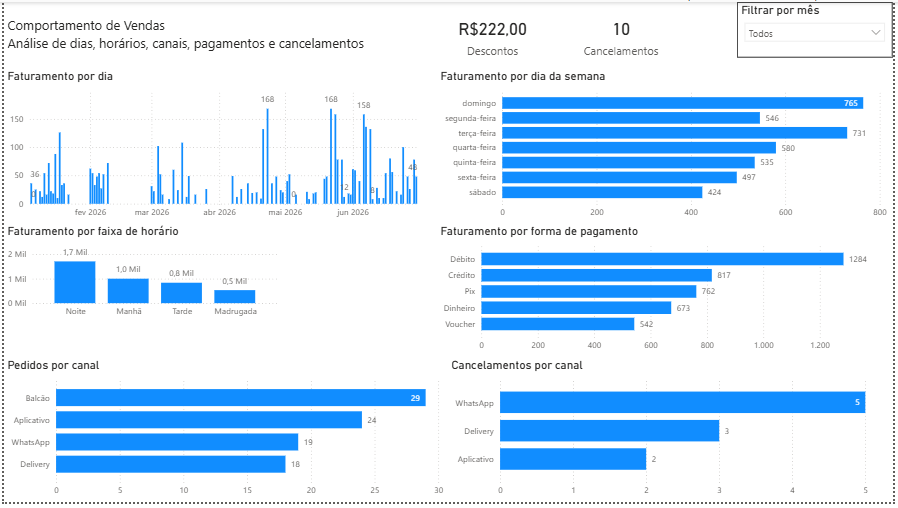

Layout of this report page (visuals, bound fields, positions):
{"tool":"powerbi","page":{"name":"Comportamento de Vendas","canvas":[1280,720],"ordinal":3},"visuals":[{"type":"card","fields":{"Values":["Vendas.Descontos"]},"box":[608,0,192,96],"z":0},{"type":"card","fields":{"Values":["Vendas.Pedidos Cancelados"]},"box":[800,0,176,96],"z":1000},{"type":"clusteredBarChart","title":"Faturamento por dia da semana","fields":{"Y":["Vendas.Faturamento"],"Category":["Vendas.Dia_Semana"]},"box":[624,96,656,224],"z":2000},{"type":"clusteredColumnChart","title":"Faturamento por dia","fields":{"Y":["Vendas.Faturamento"],"Category":["Vendas.Data_Venda"]},"box":[0,96,624,224],"z":3000},{"type":"clusteredColumnChart","title":"Faturamento por faixa de horário","fields":{"Y":["Vendas.Faturamento"],"Category":["Vendas.Faixa_Horario"]},"box":[0,320,400,144],"z":4000},{"type":"clusteredBarChart","title":"Faturamento por forma de pagamento","fields":{"Category":["Vendas.Forma_Pagamento"],"Y":["Vendas.Faturamento"]},"box":[624,320,640,192],"z":5000},{"type":"clusteredBarChart","title":"Pedidos por canal","fields":{"Category":["Vendas.Canal_Venda"],"Y":["Vendas.Pedidos Concluídos"]},"box":[0,512,640,208],"z":6000},{"type":"clusteredBarChart","title":"Cancelamentos por canal","fields":{"Category":["Vendas.Canal_Venda"],"Y":["Vendas.Pedidos Cancelados"]},"box":[640,512,624,208],"z":7000},{"type":"textbox","box":[0,16,560,64],"z":9000},{"type":"slicer","title":"Filtrar por mês","fields":{"Values":["Calendario.Ano_Mes"]},"box":[1056,0,224,80],"z":9001}]}

Visuals, with their boxes in screenshot pixels (x1, y1, x2, y2), scaled from the page's 1280x720 canvas onto the 898x508 screenshot:
card - Vendas.Descontos: l=427, t=0, r=561, b=68
card - Vendas.Pedidos Cancelados: l=561, t=0, r=685, b=68
"Faturamento por dia da semana" clusteredBarChart: l=438, t=68, r=897, b=226
"Faturamento por dia" clusteredColumnChart: l=0, t=68, r=438, b=226
"Faturamento por faixa de horário" clusteredColumnChart: l=0, t=226, r=281, b=327
"Faturamento por forma de pagamento" clusteredBarChart: l=438, t=226, r=887, b=361
"Pedidos por canal" clusteredBarChart: l=0, t=361, r=449, b=507
"Cancelamentos por canal" clusteredBarChart: l=449, t=361, r=887, b=507
textbox: l=0, t=11, r=393, b=56
"Filtrar por mês" slicer: l=741, t=0, r=897, b=56
